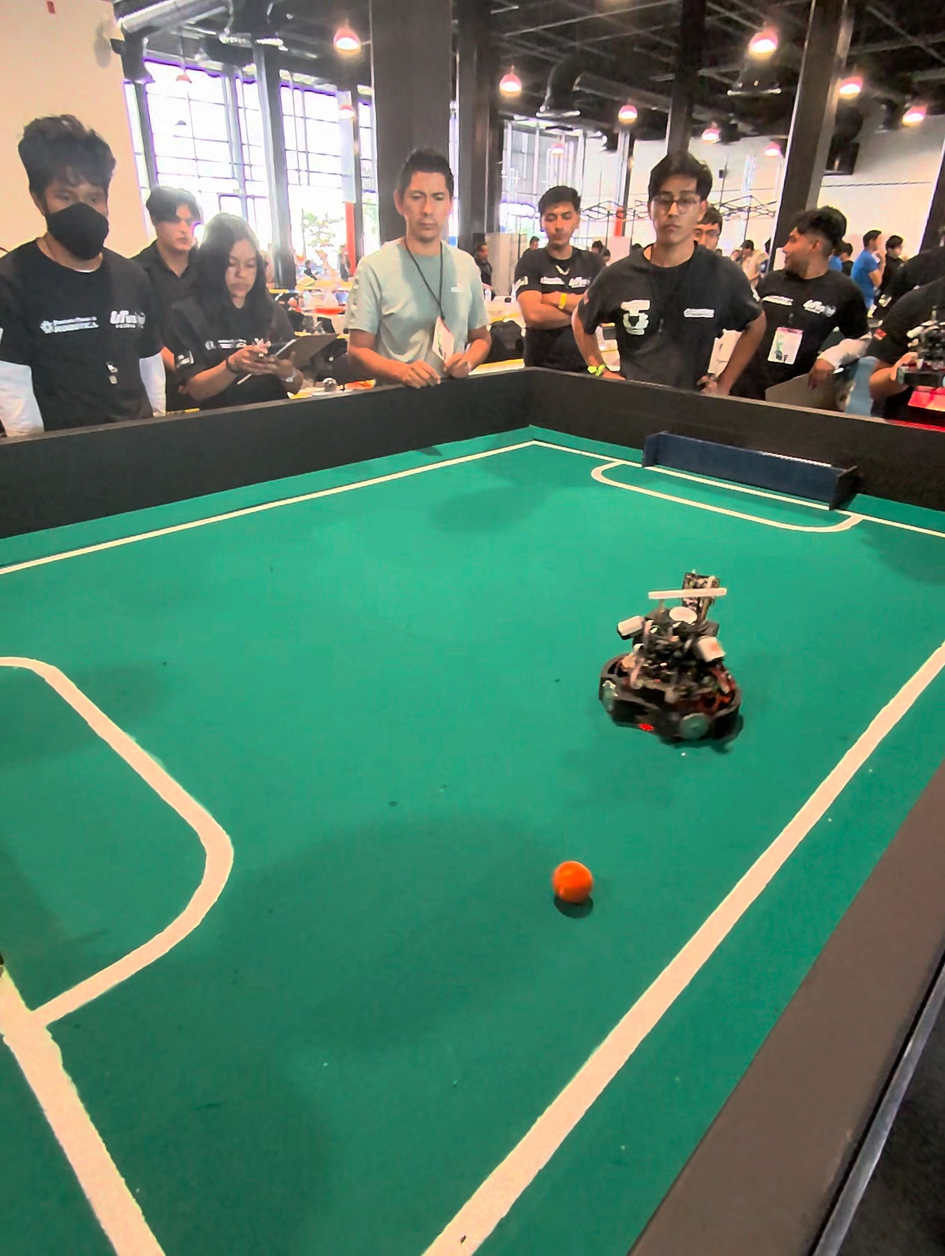Robot: (600, 566, 745, 758)
pelota: (551, 866, 594, 916)
